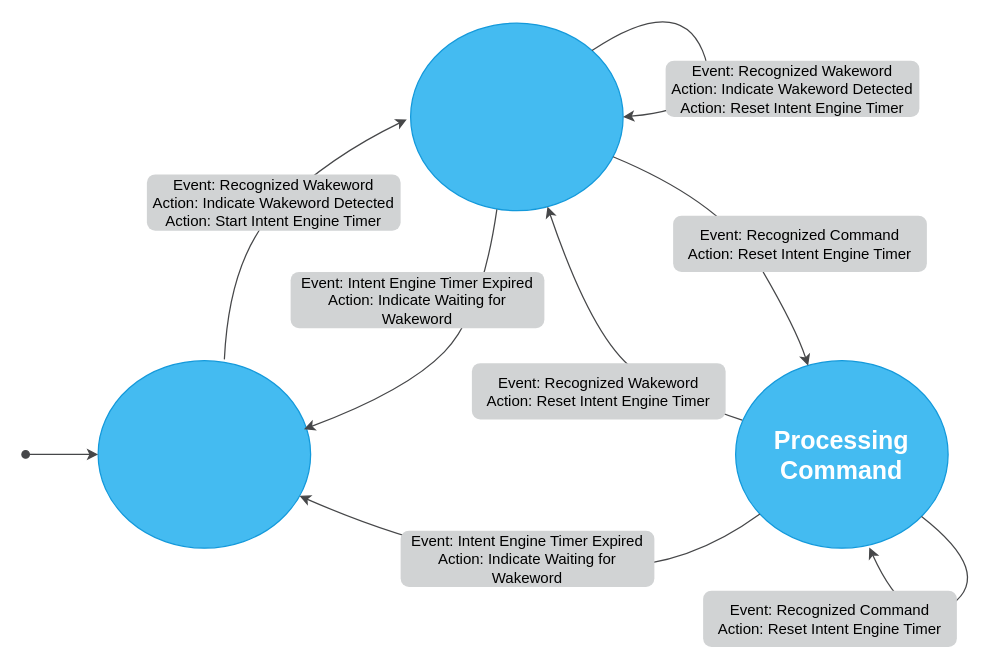
Image size: 990x669. Some labels were removed from this diagram. The shapes that lost their labels are listed below. From the top down, each one's centre as x and y in pixels, then its label:
At pixel 516 116: "Expecting Command".
At pixel 204 453: "Expecting Wakeword".
